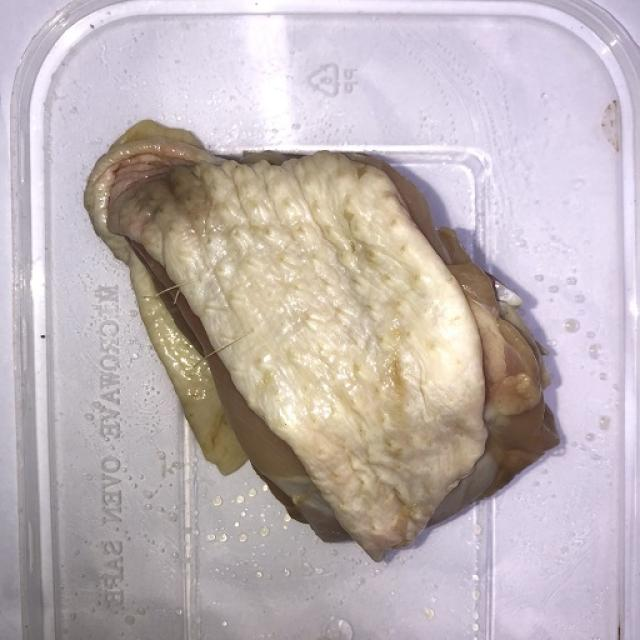Wet Waste: (81, 92, 569, 574)
